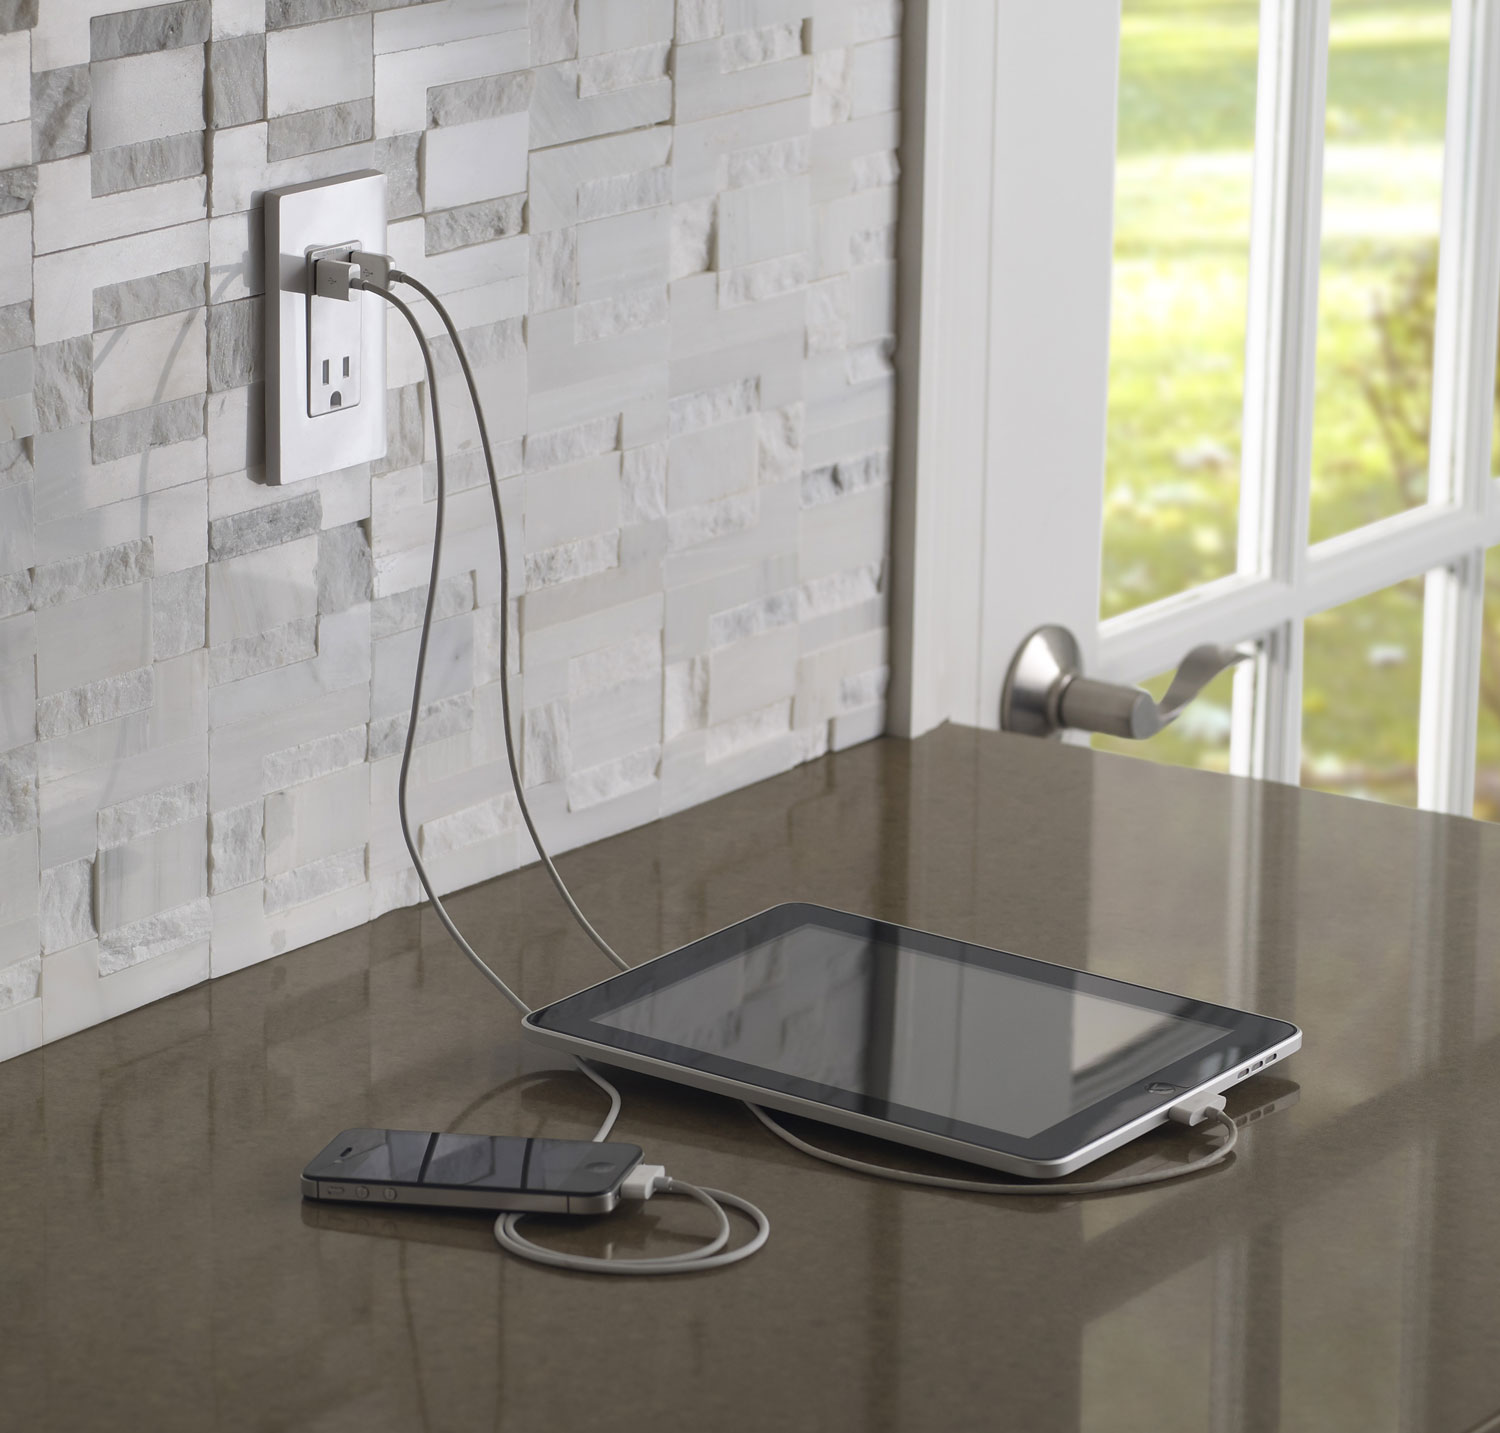outlet: (319, 354, 355, 412)
